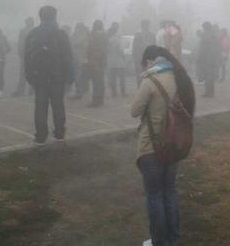person: (132, 45, 196, 245), (27, 3, 75, 145), (82, 15, 112, 108), (103, 20, 132, 99), (12, 14, 35, 98), (197, 21, 220, 98), (69, 21, 89, 100), (134, 17, 155, 83), (161, 18, 187, 59)
